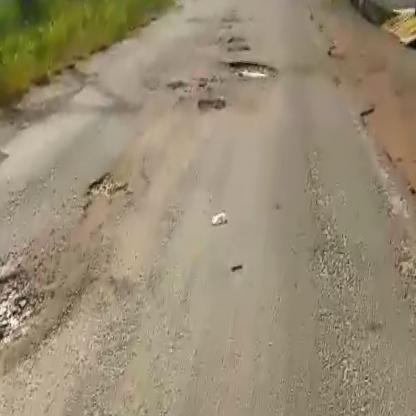pothole: (0, 252, 51, 360), (78, 168, 138, 227), (228, 58, 277, 84), (190, 91, 229, 115)
